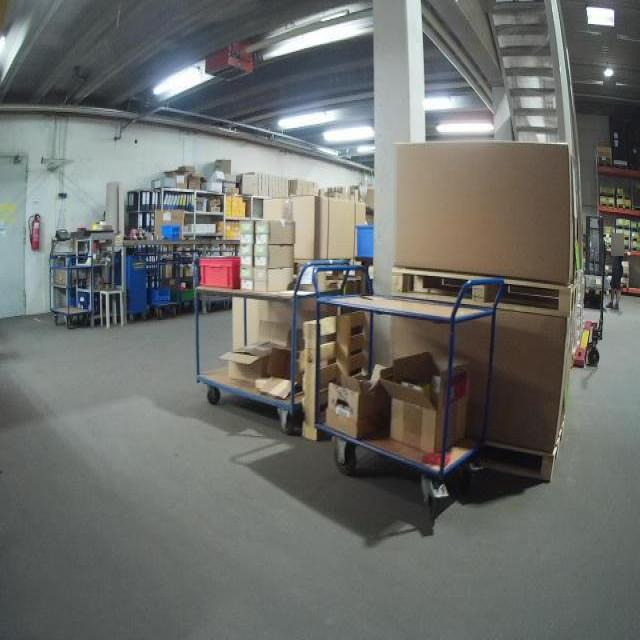pallet: (390, 264, 579, 320), (300, 307, 373, 444), (477, 429, 567, 485), (617, 202, 632, 210), (600, 201, 616, 208), (615, 224, 630, 231), (600, 192, 615, 198), (599, 162, 614, 168), (614, 163, 628, 169), (616, 194, 631, 199), (620, 234, 630, 241), (602, 233, 615, 238), (631, 226, 640, 232), (631, 237, 640, 242), (623, 245, 630, 250)
pallet_truck: (569, 236, 615, 381), (583, 207, 612, 310)
small_load_carrier: (195, 251, 242, 291)
